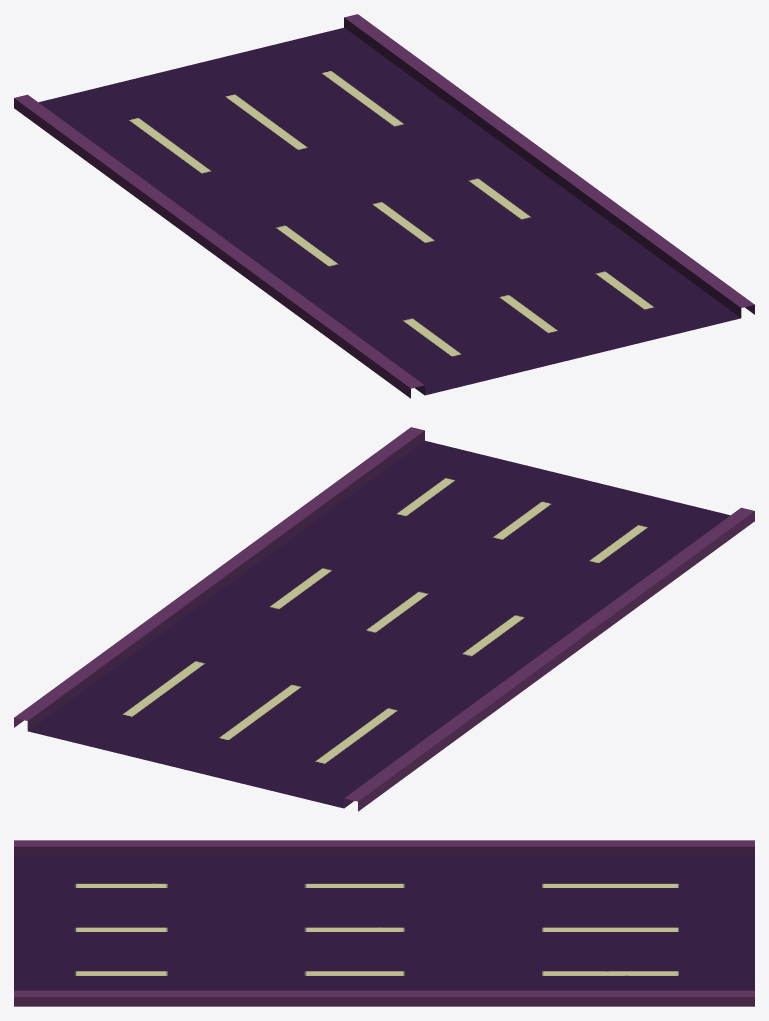
File: road.obj
3 renders of one model, top to bottom at view 1: azimuth 30°, elevation 25°; view 2: azimuth 150°, elevation 25°; view 3: azimuth 270°, elevation 25°, orthographic. The views are drawn at different scales.
Parts seen in each view (by area): view 1: road_Mesh road_grp; view 2: road_Mesh road_grp; view 3: road_Mesh road_grp.
Boxes of the visible parts, <box> form: road_Mesh road_grp: <box>14,14,754,398</box>; road_Mesh road_grp: <box>14,427,754,811</box>; road_Mesh road_grp: <box>14,840,754,1006</box>.
Size of the model in its own units: 100 by 2.85 by 200.
Materials: 1 (1 with a texture image).
